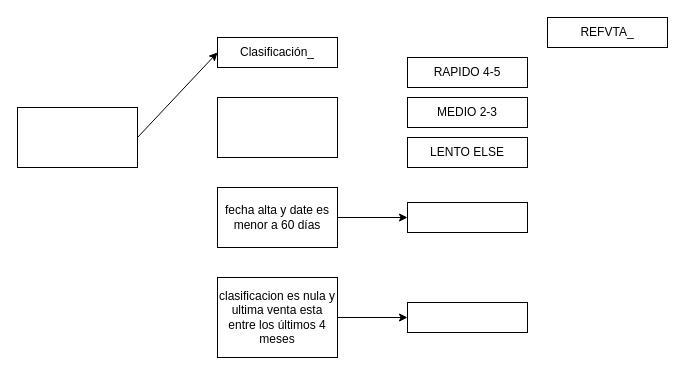
The diagram is 685 pixels wide and 375 high, and some of its shapes have lost their labels. Each missing label, with the centre of its shape:
"Nuevo" belongs at point 467,217.
"Obsoleto" belongs at point 467,317.
"r.clasificacion is not null then r.clasificacion_" belongs at point 277,127.
"REFINV_" belongs at point 77,137.
